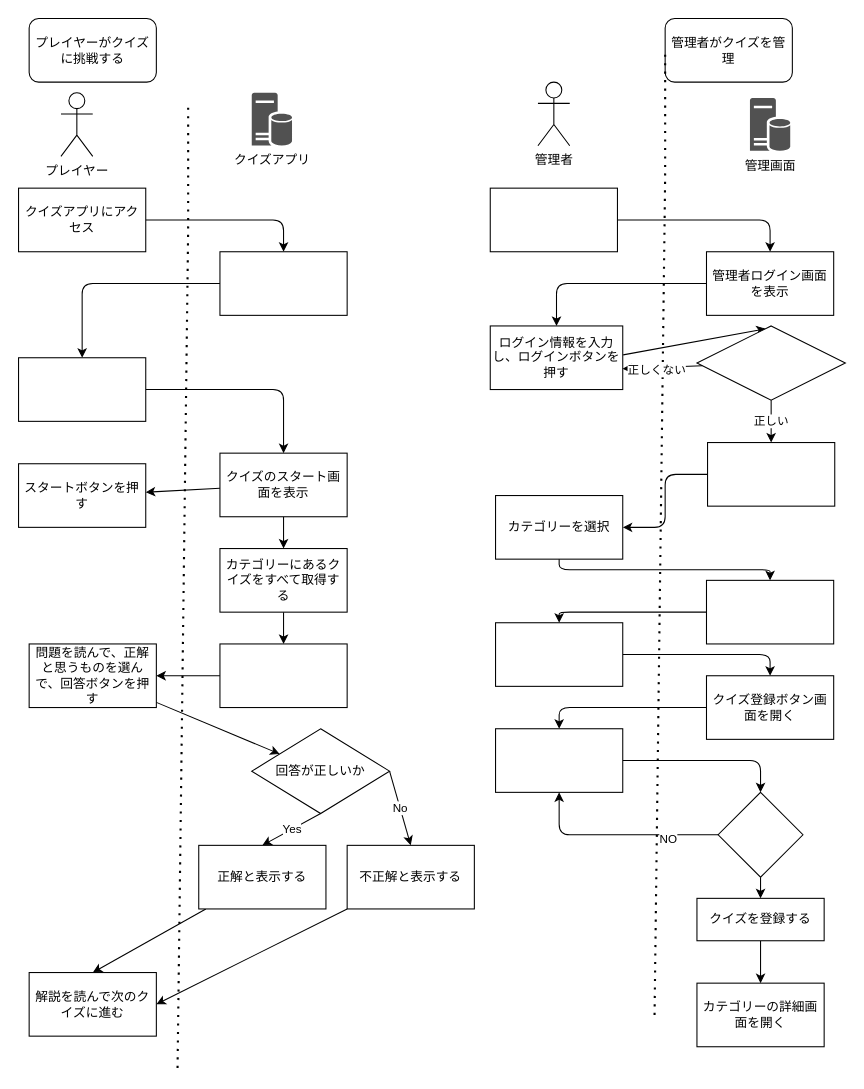
Image size: 864x1089. Some labels were removed from this diagram. The box of each missing label's shape, as (x1, y1, x2, y2) in pixels:
カテゴリー詳細画面を開く: (705, 579, 834, 644)
カテゴリー選択画面を表示: (219, 251, 347, 315)
クイズのカテゴリーを選択: (17, 357, 146, 421)
クイズの問題や選択肢や回答などの情報を入力し、登録ボタンを押す: (494, 728, 623, 792)
クイズをランダムに出題する: (219, 643, 347, 708)
クイズ登録ボタンを押す: (494, 622, 623, 686)
ログイン情報が正しいか判定する: (696, 325, 845, 400)
入力した情報が登録可能か検証: (717, 791, 803, 877)
管理画面にアクセス: (489, 187, 617, 252)
管理画面のトップを表示: (706, 441, 835, 506)
